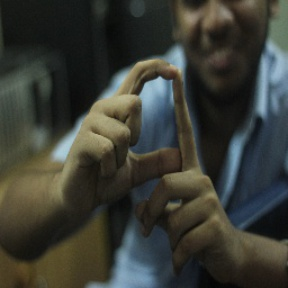D: (100, 55, 207, 202)
